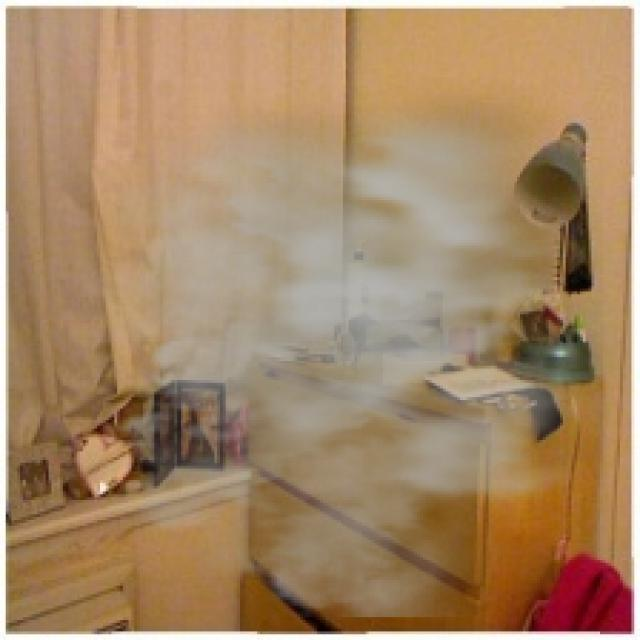Smoke: (54, 77, 603, 617)
